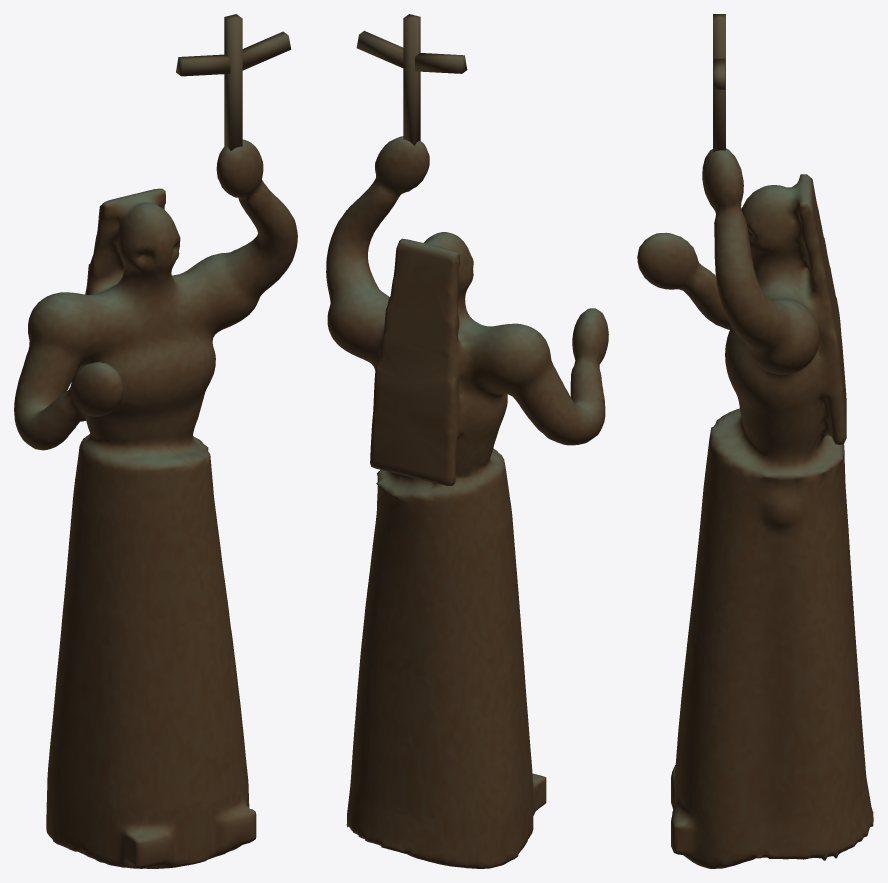
File: nino.glb
3 views of the same model, side by side, from view 1: azimuth 30°, elevation 25°; view 2: azimuth 150°, elevation 25°; view 3: azimuth 270°, elevation 25° (orthographic). The views are drawn at different scales.
Visible parts, largest first — view 1: nn_m; view 2: nn_m; view 3: nn_m.
Boxes of the visible parts, bbox=[...] form: nn_m: bbox=[14, 14, 297, 868]; nn_m: bbox=[326, 14, 608, 868]; nn_m: bbox=[637, 14, 873, 868].
Size of the model in its own units: 0.3504 by 1 by 0.2513.
